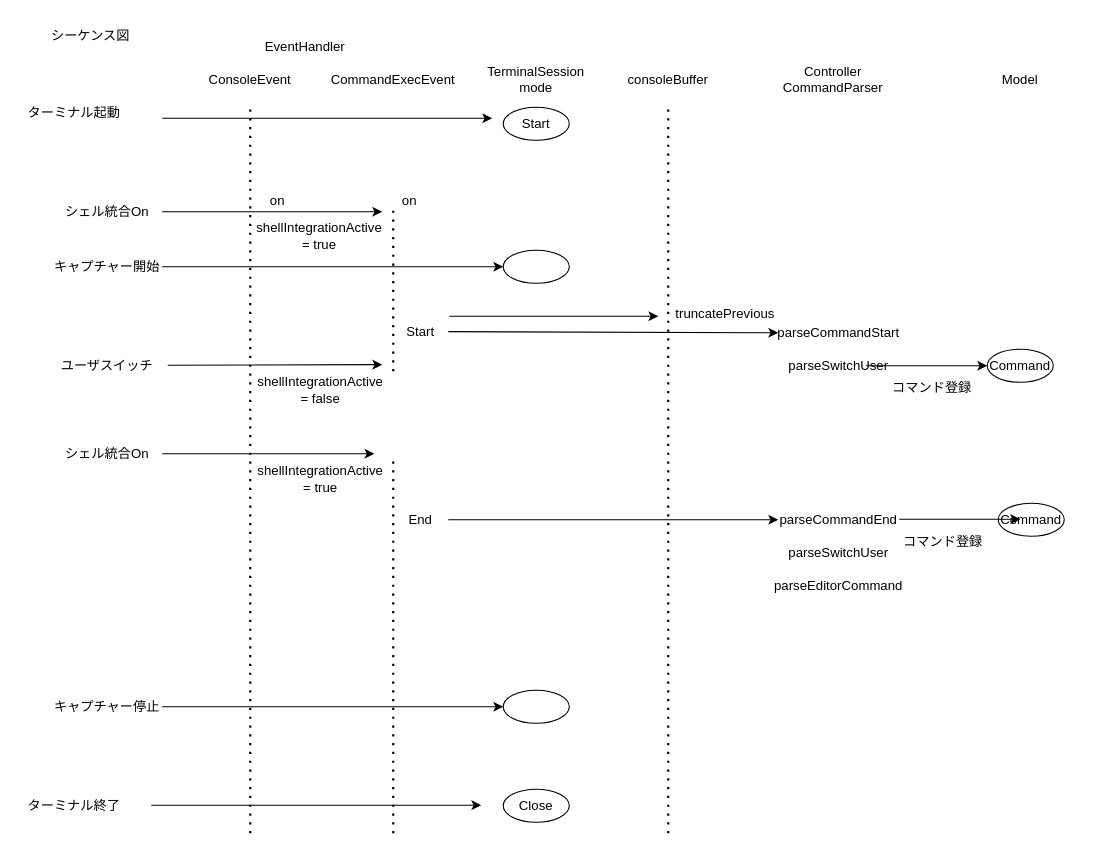
The diagram is 1093 pixels wide and 854 high, and some of its shapes have lost their labels. Here are the shapes that lost their labels. From the top down, the centre of each, then its label:
[535,266]: Capture
[535,706]: Capture Stop
